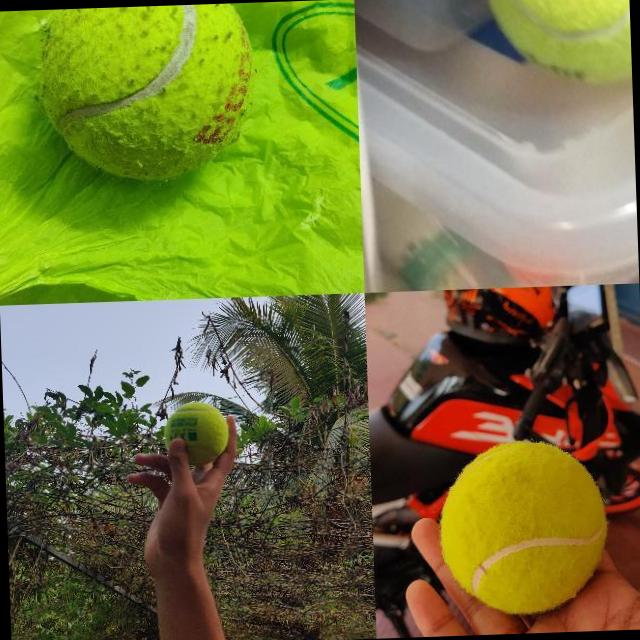Tennis Ball: (33, 2, 260, 186), (436, 438, 610, 616), (483, 0, 632, 89), (163, 400, 231, 466)
